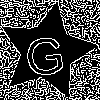G: (21, 27, 66, 78)
